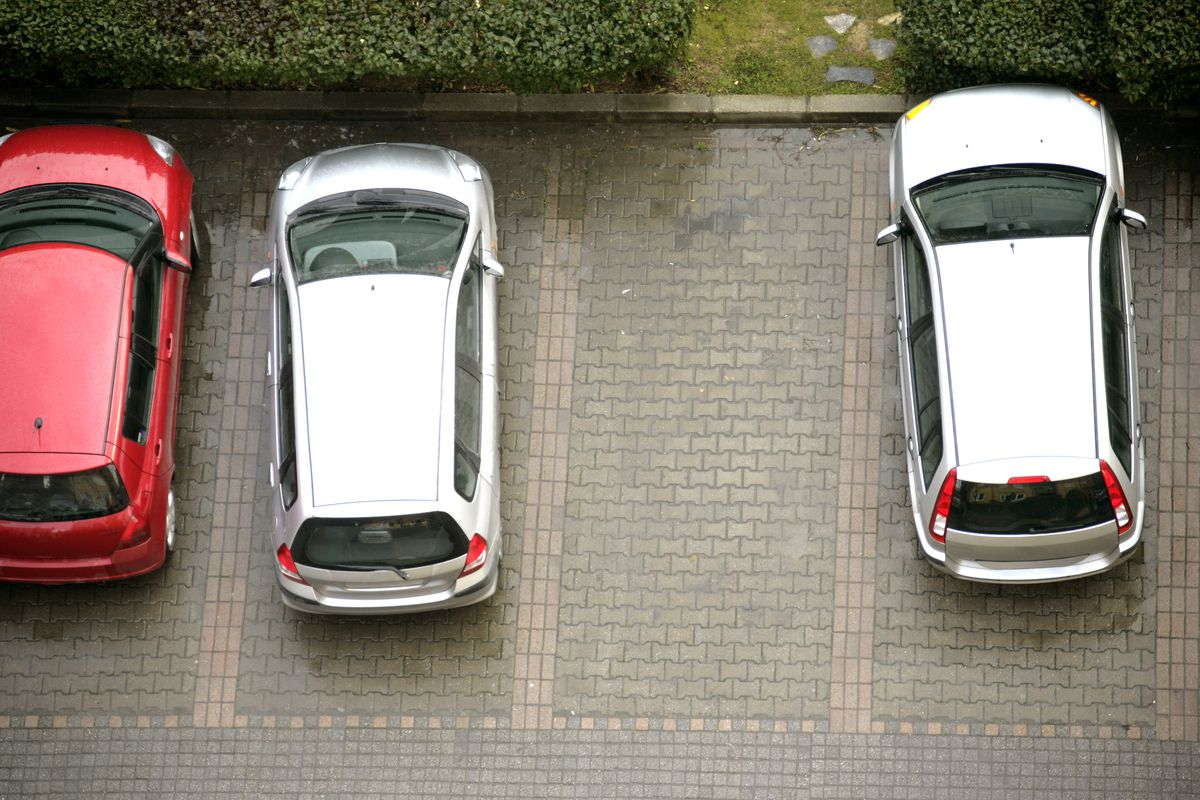empyt_space: (522, 115, 898, 754)
